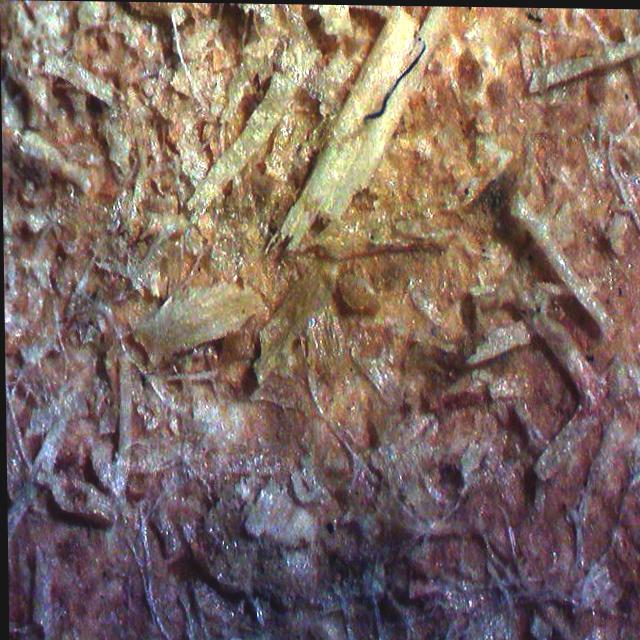microplastic: (363, 35, 431, 125)
